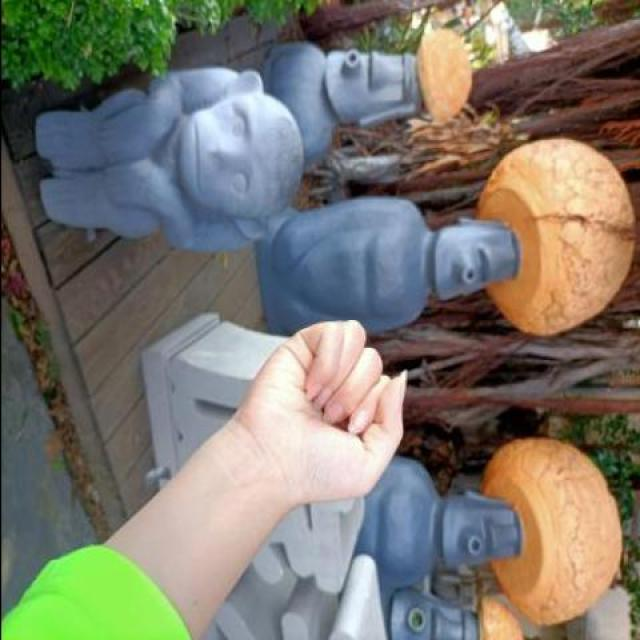Closed Hand: (237, 297, 407, 515)
